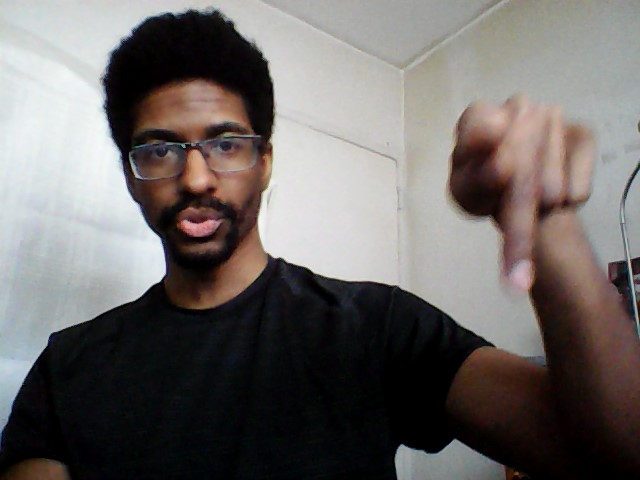p: (443, 91, 602, 297)
